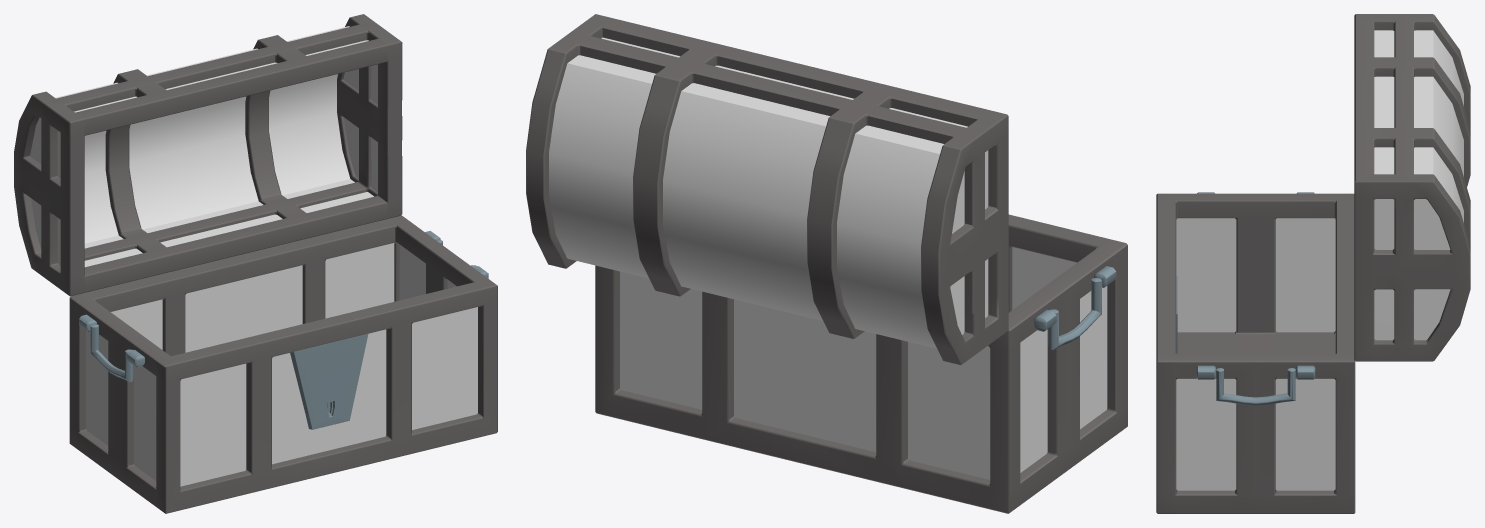
File: Cofre.fbx
3 renders of one model, left to right at view 1: azimuth 30°, elevation 25°; view 2: azimuth 150°, elevation 25°; view 3: azimuth 270°, elevation 25°, orthographic. The views are drawn at different scales.
Parts seen in each view (by area): view 1: Object_10, Object_11; view 2: Object_11, Object_10; view 3: Object_10, Object_11.
Boxes of the visible parts, x1=… form: Object_10: x1=14, y1=14, x2=497, y2=513; Object_11: x1=30, y1=26, x2=477, y2=486; Object_11: x1=549, y1=37, x2=1107, y2=479; Object_10: x1=526, y1=14, x2=1127, y2=513; Object_10: x1=1156, y1=14, x2=1470, y2=513; Object_11: x1=1176, y1=30, x2=1463, y2=490.
Size of the model in its own units: 263 by 229 by 196.
